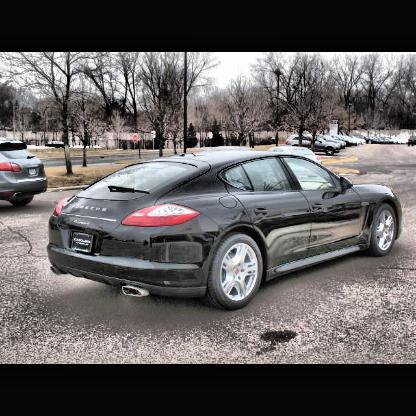Porsche Panamera Sedan 2012: (51, 150, 402, 310)
